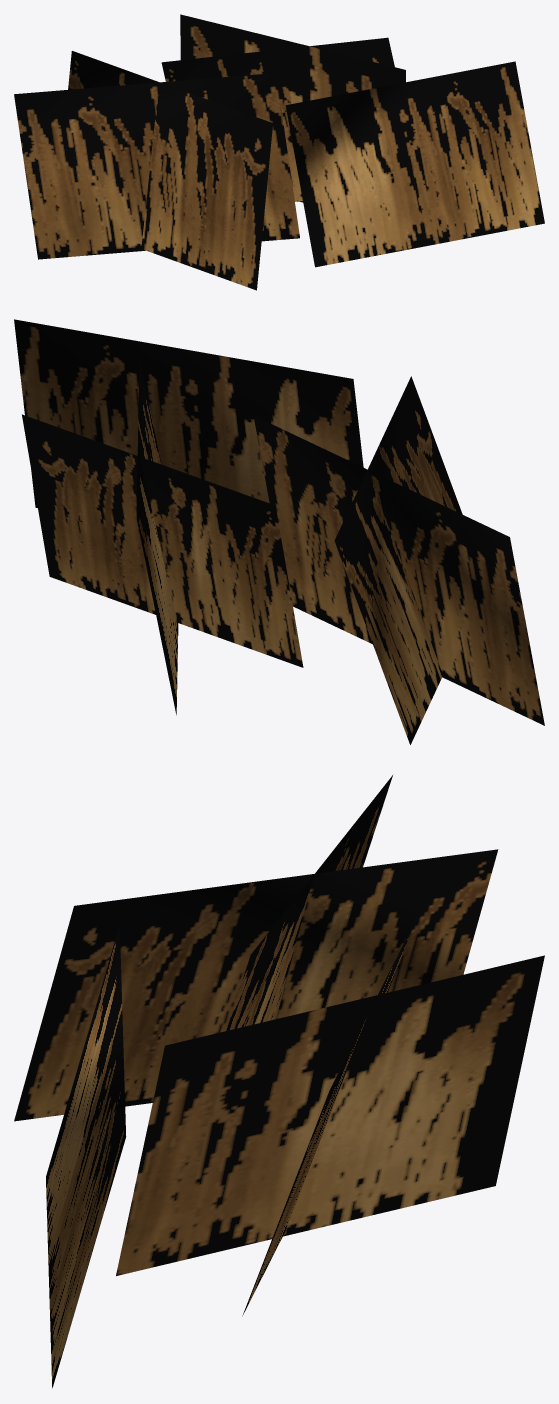
The model's file is xzl_cao2.fbx.
The picture shows the model from 3 angles, top to bottom: view 1: azimuth 30°, elevation 25°; view 2: azimuth 150°, elevation 25°; view 3: azimuth 270°, elevation 25°; orthographic projection. The views are drawn at different scales.
Visible parts, largest first — view 1: xzl_cao2; view 2: xzl_cao2; view 3: xzl_cao2.
Boxes of the visible parts, x1,y1,x2,y2 form: xzl_cao2: (14, 14, 544, 290); xzl_cao2: (14, 319, 544, 744); xzl_cao2: (14, 775, 544, 1388).
Bounding box in the file's own units: 828 × 299 × 532.
